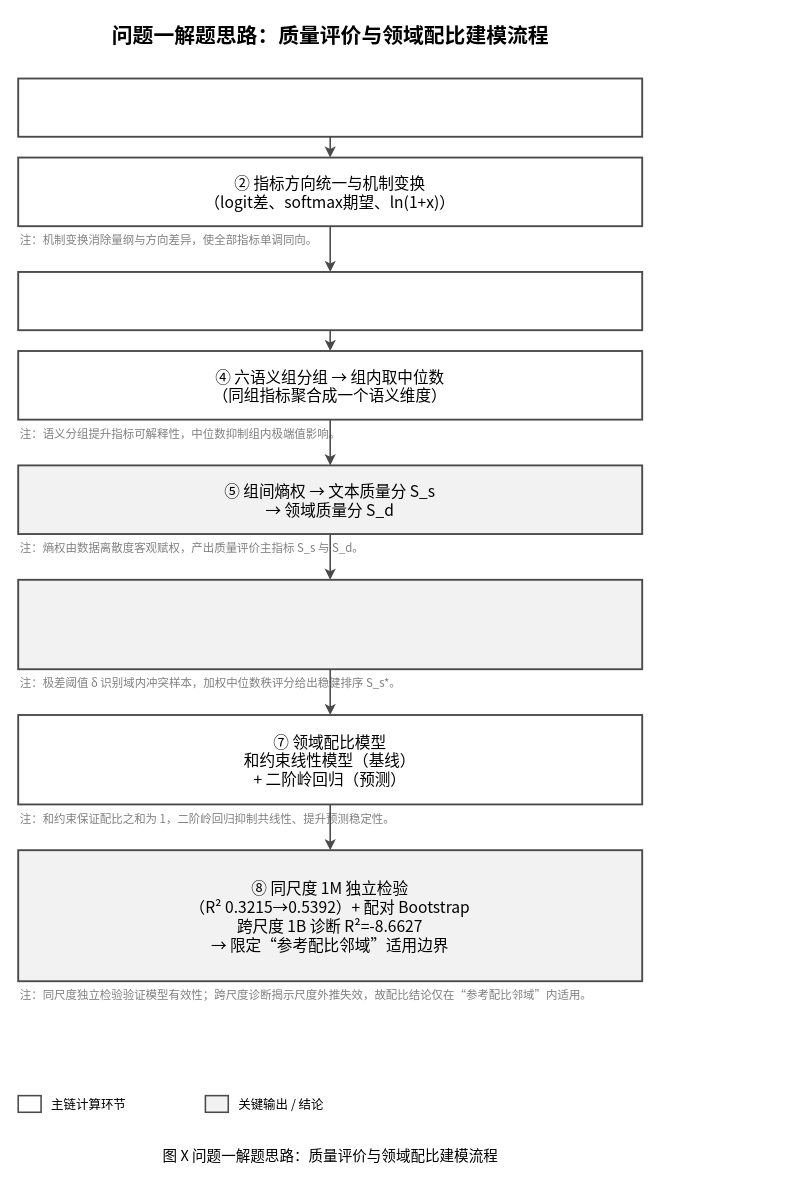
Image size: 785x1185. Some labels were removed from this diagram. Each missing label, with the centre of its shape:
"① A1–A3 质量记录 （272505 条 / 22 项指标）" belongs at pixel 330 107.
"③ Min-Max 归一化到 [0,1]" belongs at pixel 330 301.
"⑥ 域内百分位秩极差 → 冲突标记 （δ=0.9680，约10%） + 加权中位数稳健秩评分 S_s*" belongs at pixel 330 624.
